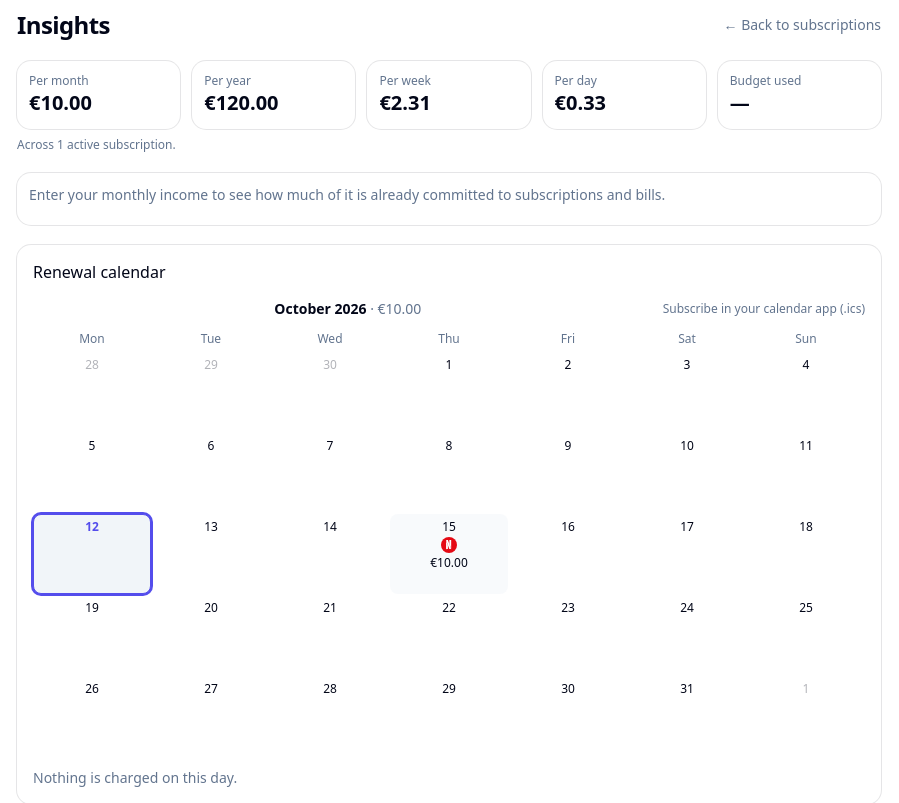
Scenario: /insights/+page.svelte › renewal calendar › shows a charge on its day and lists it when the day is selected
Check: the heading "October 2026 · €10.00" is shown, box top-left (274, 299), bottom-right (421, 319)
Click the button "15 €10.00" at (449, 554), box top-left (390, 514), bottom-right (508, 594)
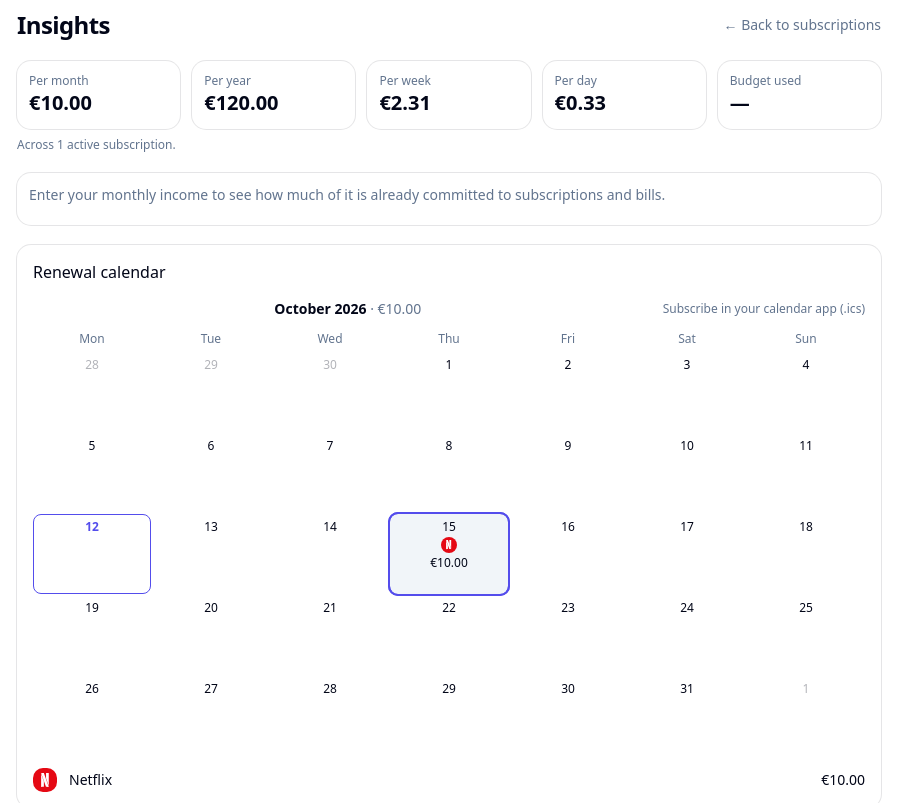
Check: the element named "Charges on the selected day" shows "Netflix", box top-left (69, 770), bottom-right (112, 789)
Check: the element named "Charges on the selected day" shows "€10.00", box top-left (821, 770), bottom-right (865, 789)
